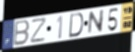1: (56, 14, 63, 40)
5: (107, 7, 119, 32)
B: (12, 19, 31, 47)
D: (68, 12, 84, 39)
N: (87, 9, 105, 36)
Z: (30, 16, 48, 45)
